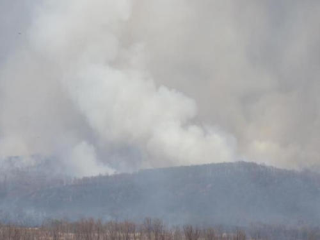smoke: (70, 64, 233, 168)
